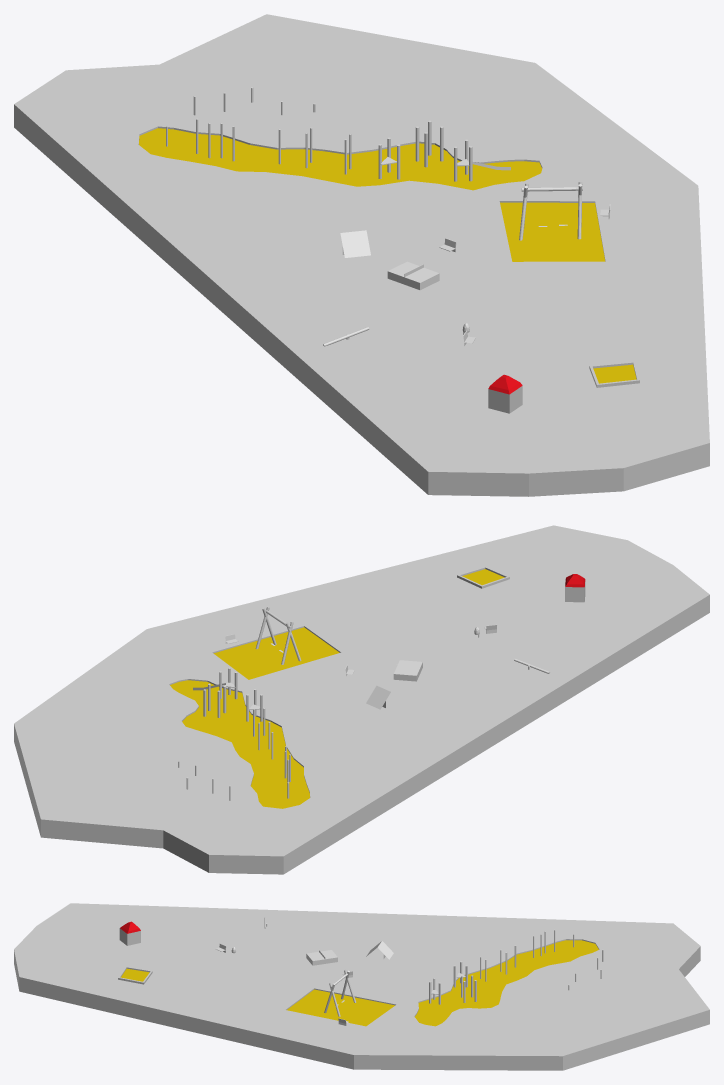
File: playground.gltf
3 views of the same model, one above another, from view 1: azimuth 30°, elevation 25°; view 2: azimuth 150°, elevation 25°; view 3: azimuth 270°, elevation 25° (orthographic). The views are drawn at different scales.
Parts seen in each view (by area): view 1: Plane, Spielhaus, ph.Tischtennis; view 2: Plane, Spielhaus; view 3: Plane, Spielhaus, ph.Tischtennis.
Boxes of the visible parts, x1,y1,x2,y2 form: Plane: [14, 14, 709, 496]; Spielhaus: [488, 374, 522, 413]; ph.Tischtennis: [387, 261, 439, 290]; Plane: [14, 525, 709, 874]; Spielhaus: [565, 574, 585, 602]; Plane: [14, 903, 709, 1070]; Spielhaus: [119, 921, 140, 945]; ph.Tischtennis: [306, 950, 337, 965].
Size of the model in its own units: 6.66 by 0.9473 by 12.8.
